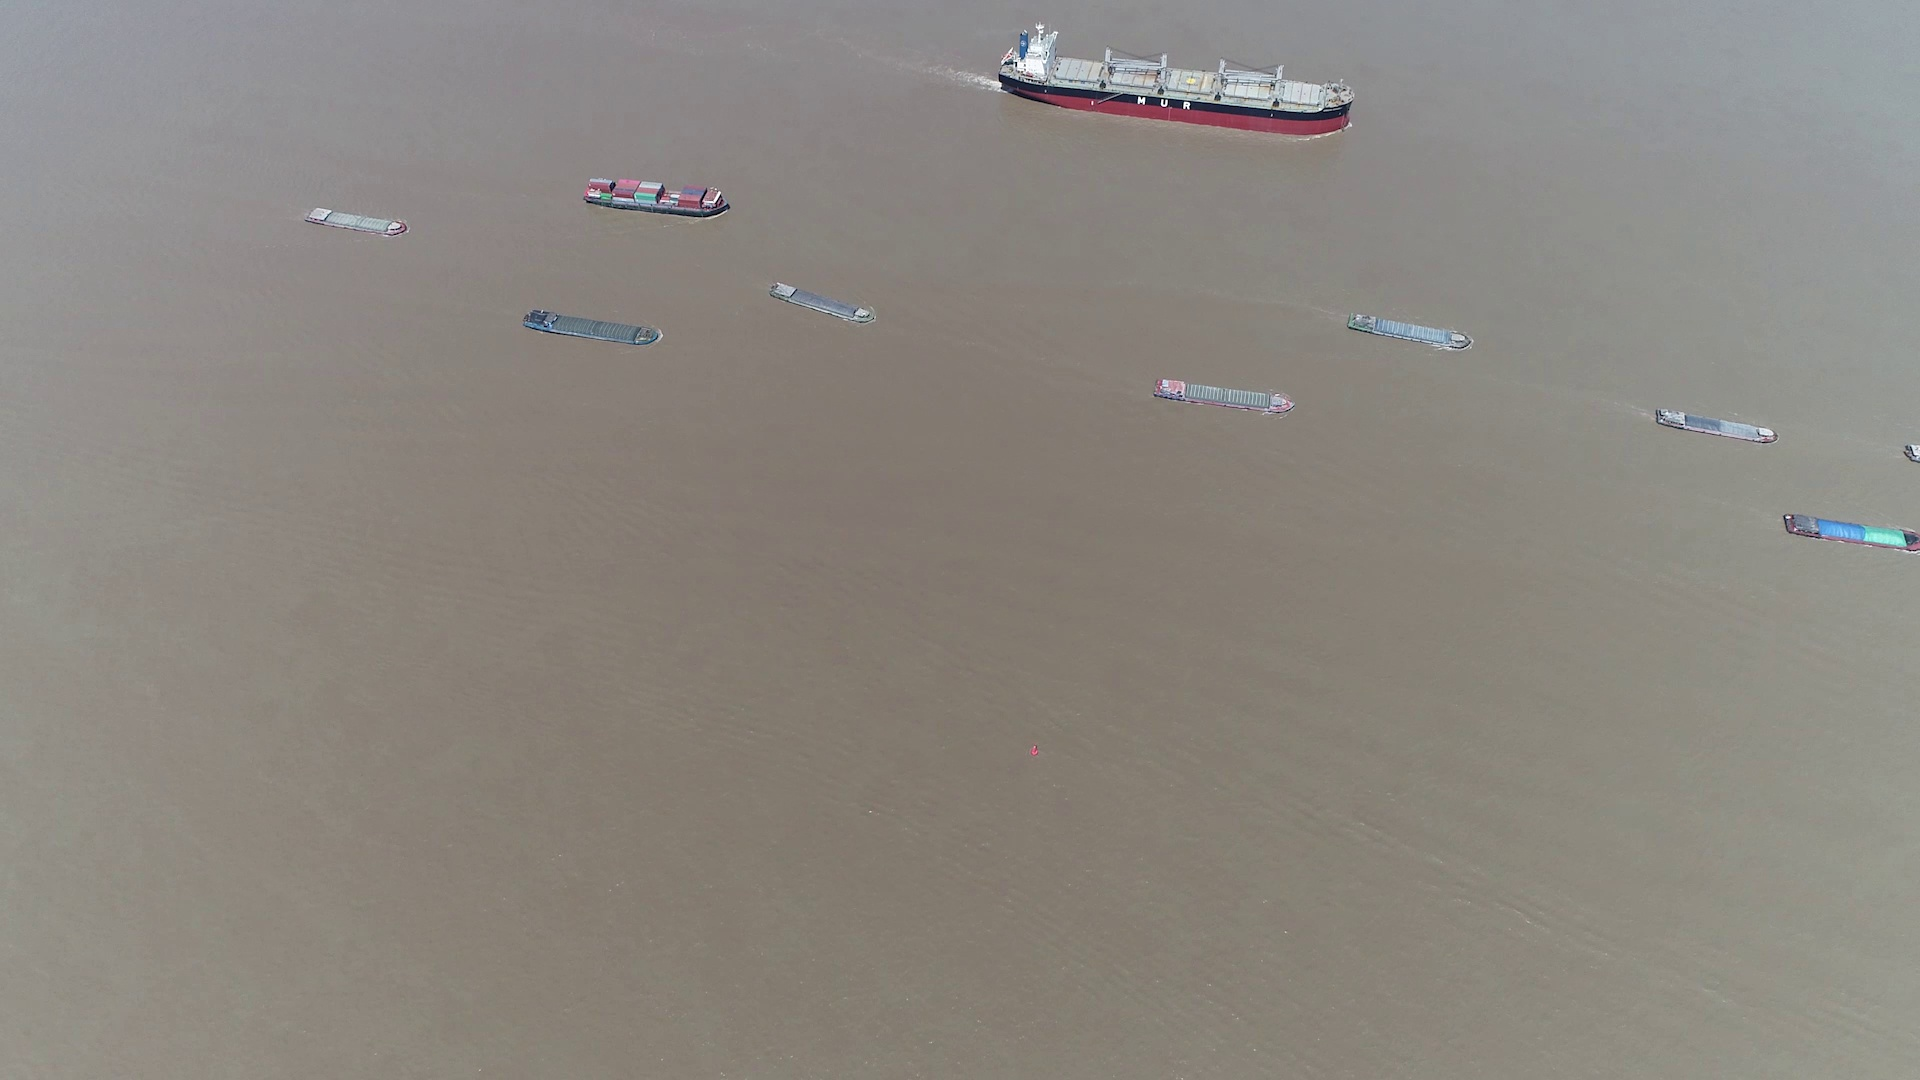ship: (1000, 32, 1356, 135), (585, 177, 729, 216), (1782, 513, 1920, 553), (524, 310, 662, 348), (1154, 378, 1294, 415), (1348, 310, 1472, 351), (1654, 406, 1778, 444), (767, 282, 876, 324), (305, 206, 407, 237)
